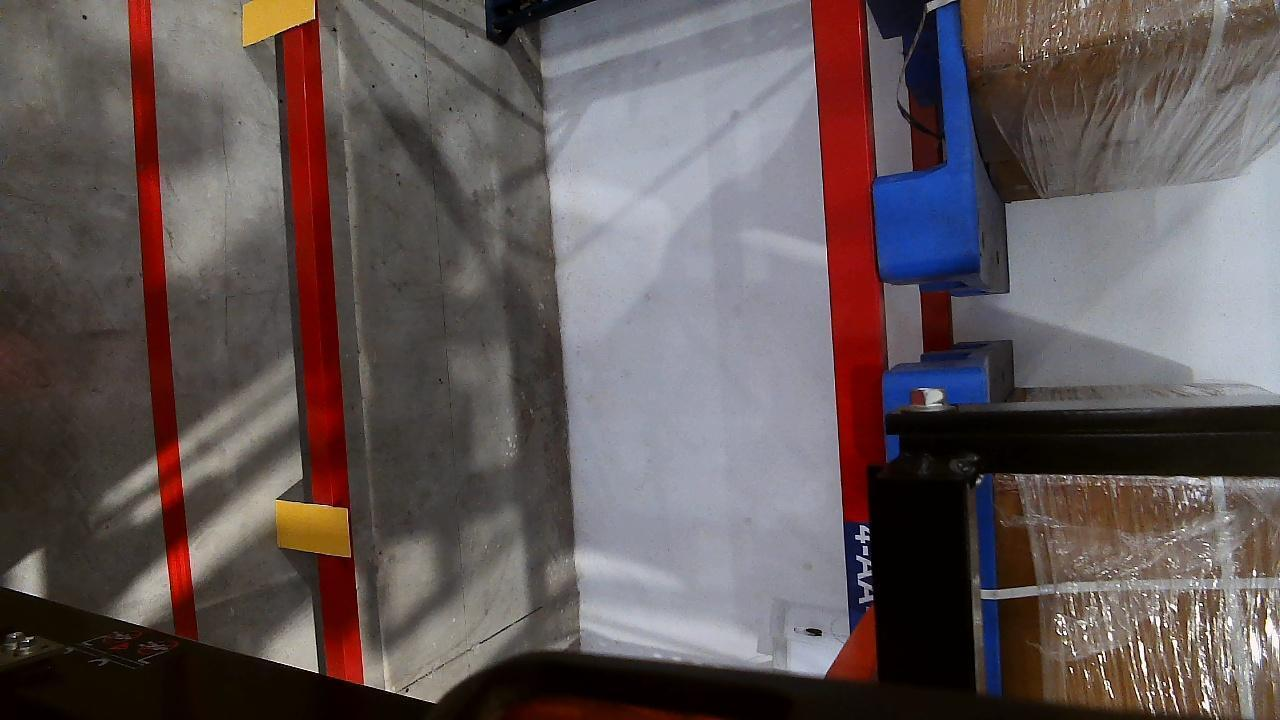red_line: (127, 1, 188, 601)
